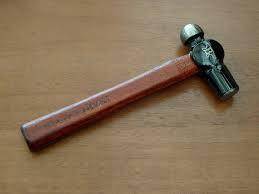hammer: (18, 21, 240, 152)
